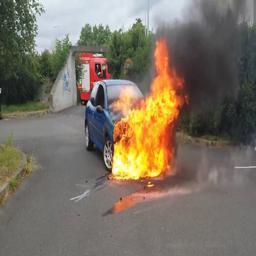fire: (109, 37, 189, 179)
